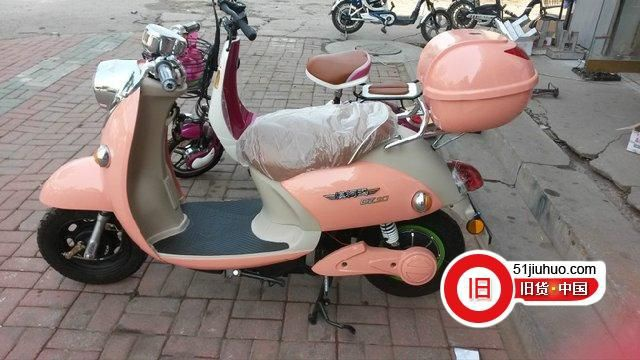non-vehicle: (35, 36, 500, 300), (143, 9, 417, 166)
